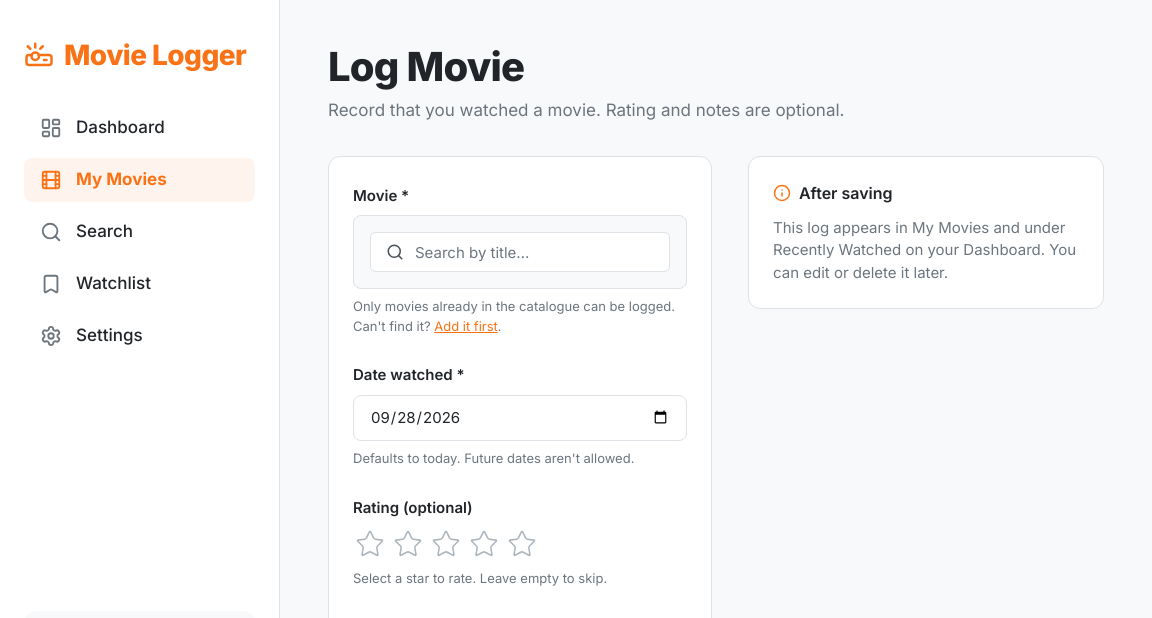
it: Log Movie page › lets the user pick a movie when none was chosen
Type "ali" into the search field named "movie to log" at coordinates (520, 252), box [370,232,670,272]
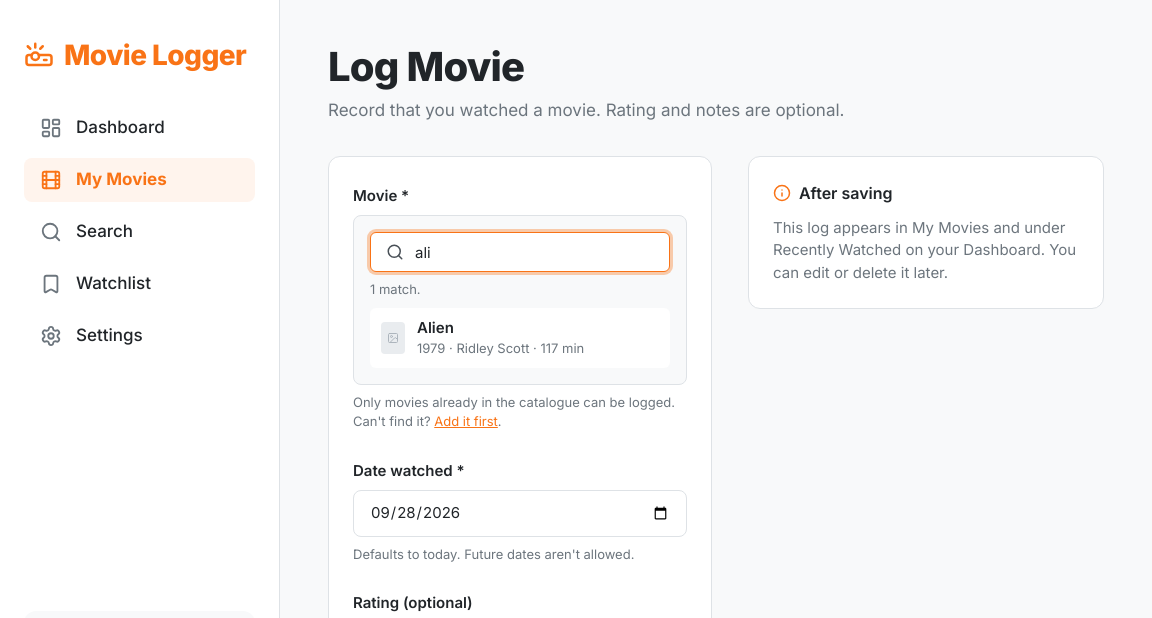
Click the button "Alien 1979 · Ridley Scott · 117 min" at coordinates (520, 338), box [370,308,670,368]
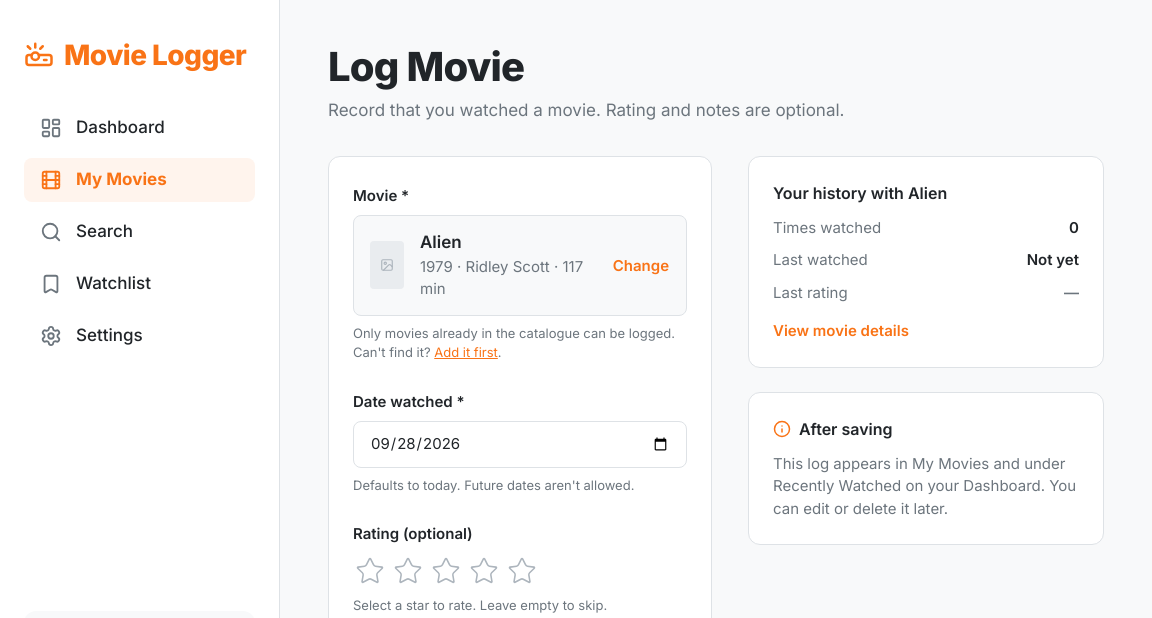
Expected: the button with aria-label "Change movie (currently Alien)" is shown, [612,257,670,274]
